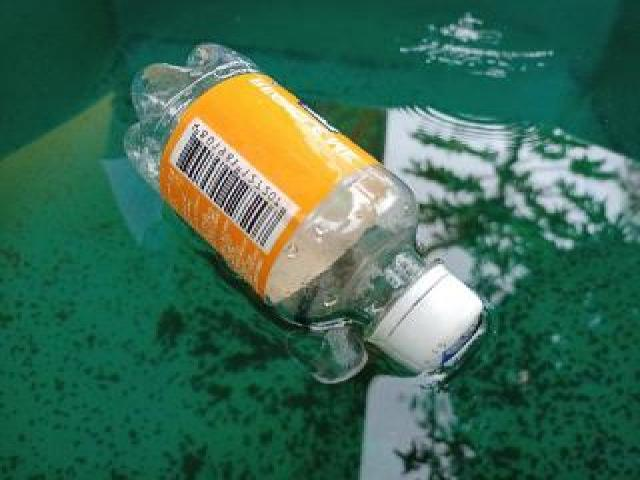Bottle: (109, 24, 488, 406)
